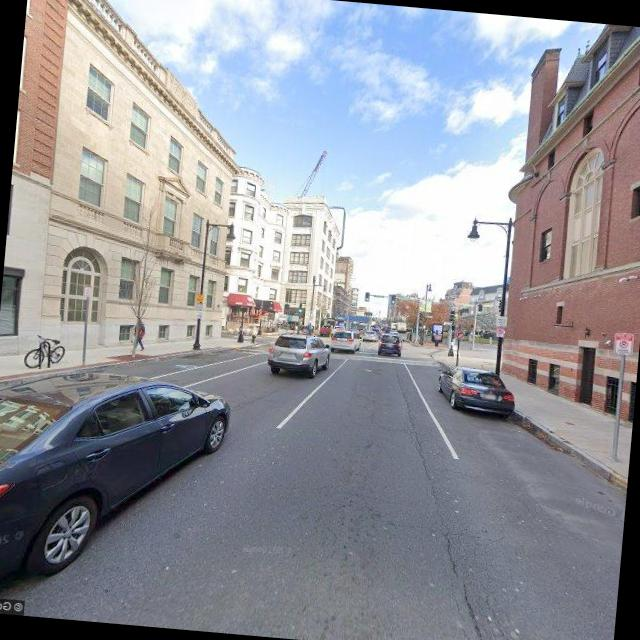crack: (370, 359, 516, 640)
